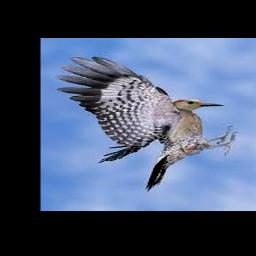Woodpecker: (57, 57, 238, 191)
